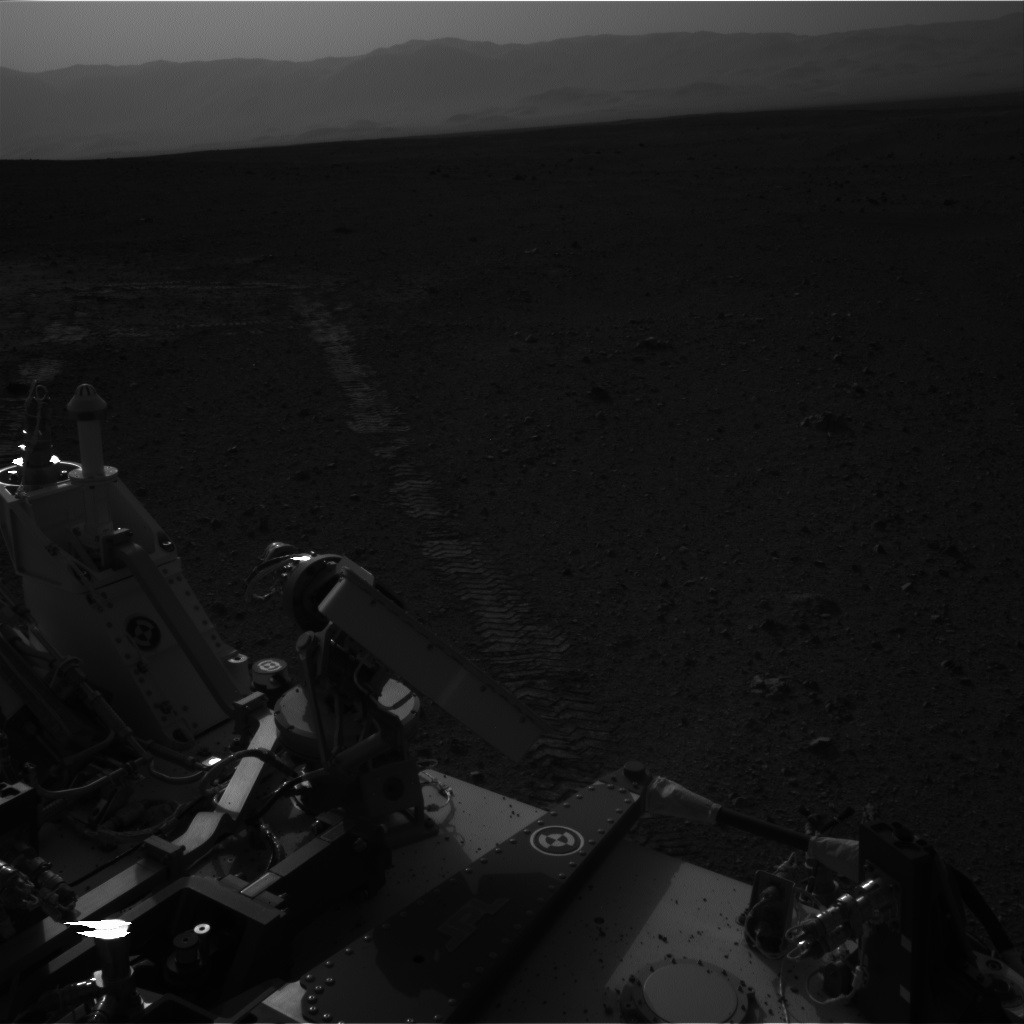soil: (15, 211, 1017, 809)
